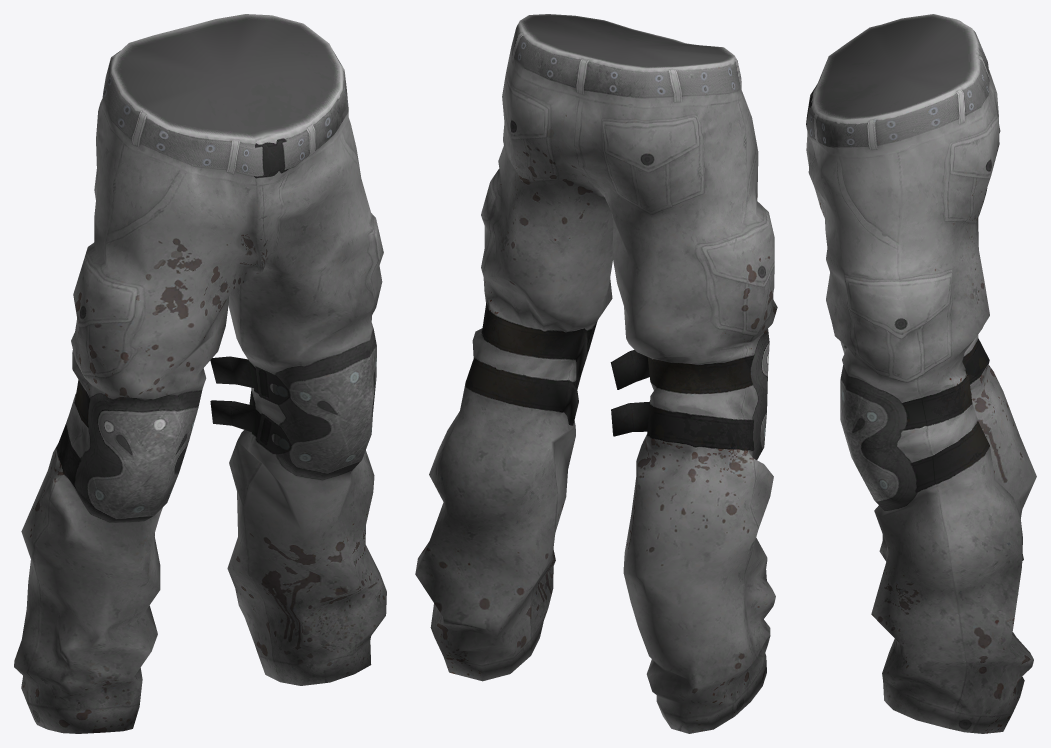
File: SurvivorMale_Legs_Pants_KneePads_LOD0.glb
The picture shows the model from 3 angles, left to right: view 1: azimuth 30°, elevation 25°; view 2: azimuth 150°, elevation 25°; view 3: azimuth 270°, elevation 25°; orthographic projection. The views are drawn at different scales.
Visible parts, largest first — view 1: Hoodie; view 2: Hoodie; view 3: Hoodie.
Part boxes in pixels (box(x1,y1,x2,y2)): Hoodie: box(14, 14, 386, 733); Hoodie: box(415, 14, 777, 733); Hoodie: box(806, 14, 1036, 733).
Size of the model in its own units: 0.5516 by 1.02 by 0.3423.
1 material, 1 textured.
